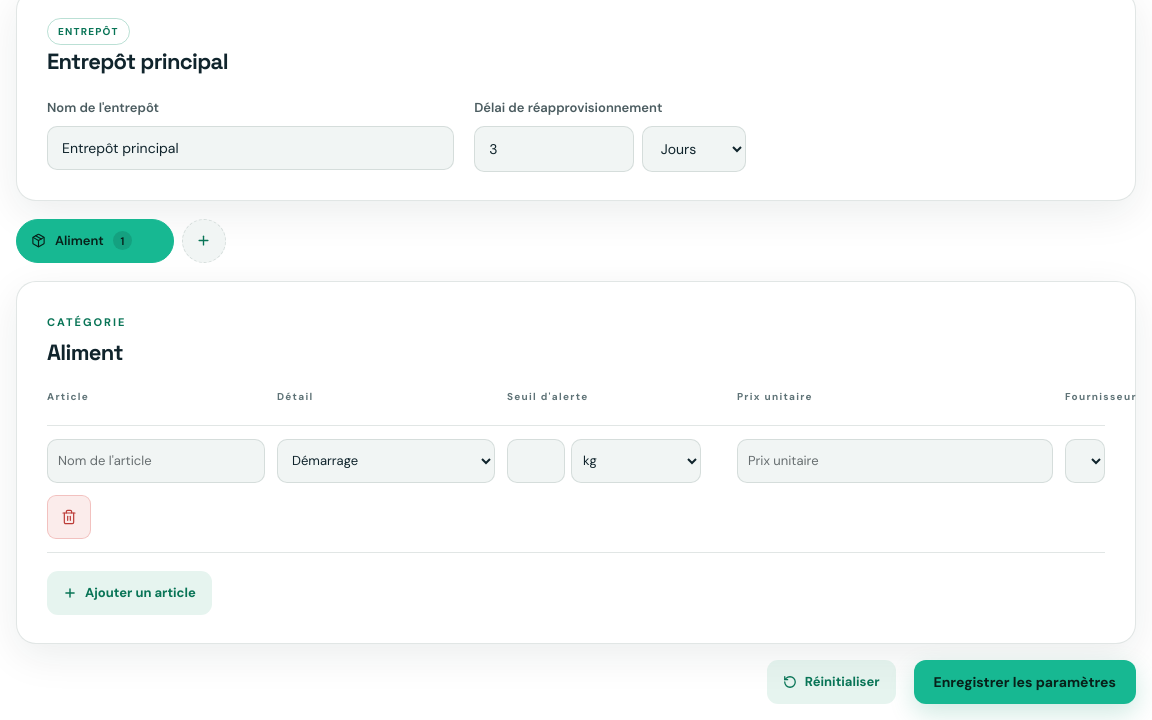
Test case: StockParametersForm — a rejected save › the management mode shows the error where 'Enregistré' would have gone
The image size is (1152, 720).
(page scrolled)
Click the button "Enregistrer les paramètres" at (1025,682), box [914,660,1136,704]
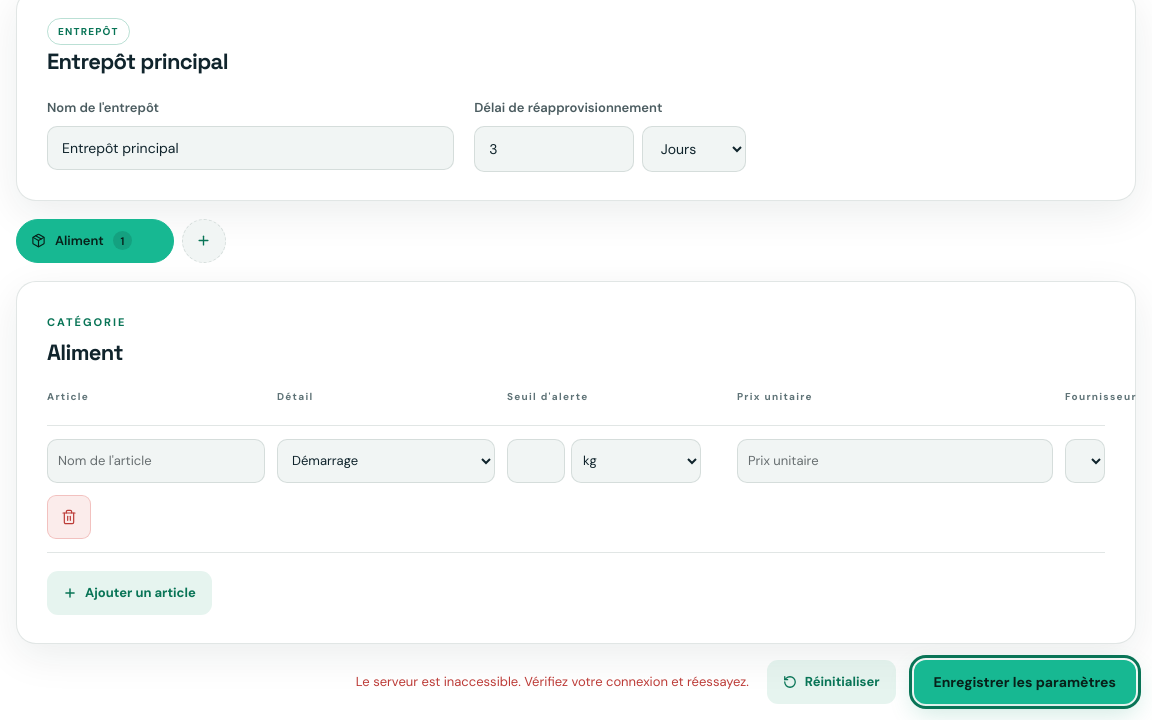
Now the message shows "Le serveur est inaccessible.", box [356,673,749,690]
